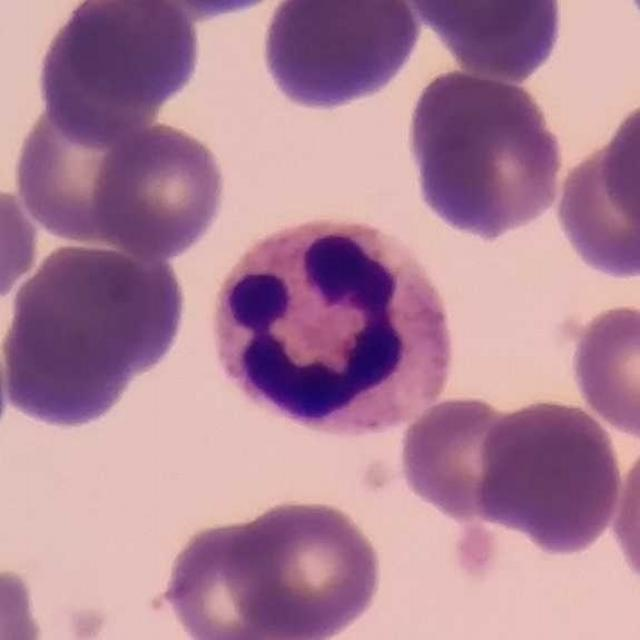Neutrophil: (200, 207, 464, 446)
Platelets: (447, 512, 506, 580), (348, 452, 403, 498), (65, 604, 119, 640)
RBC: (0, 237, 188, 431), (402, 64, 569, 242), (472, 395, 627, 557), (219, 494, 386, 639), (9, 100, 166, 249), (156, 512, 330, 639), (89, 119, 229, 261), (256, 0, 426, 115), (396, 392, 536, 524), (56, 0, 204, 118), (32, 22, 165, 147), (405, 0, 570, 85), (551, 130, 640, 285), (565, 299, 640, 443), (599, 89, 640, 236), (607, 430, 640, 602), (0, 180, 42, 307), (129, 0, 302, 23), (0, 560, 48, 640)
